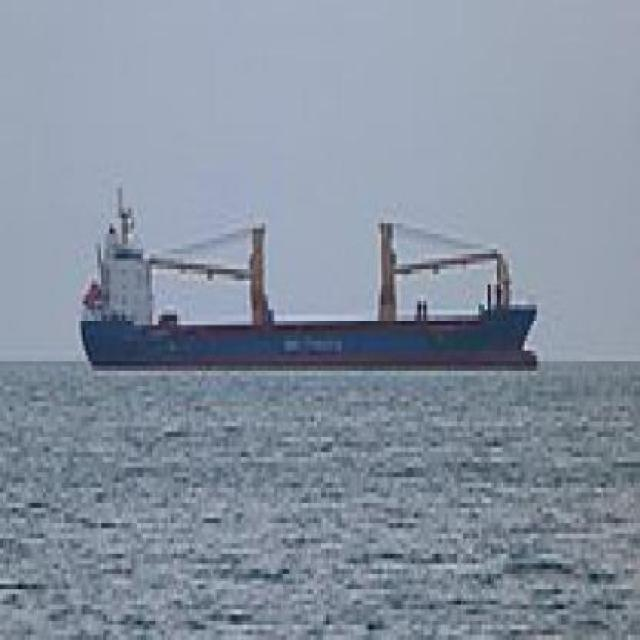container: (62, 178, 546, 387)
